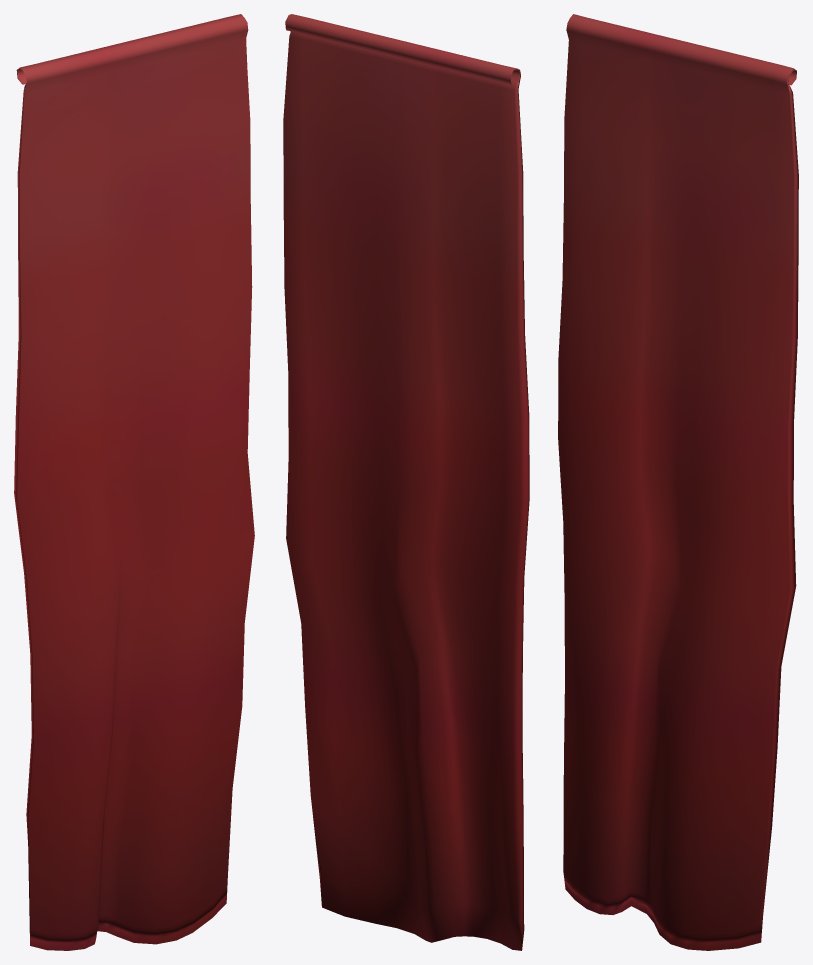
Rendered from M_HangingCloth_01_fixed.fbx.
3 views of the same model, side by side, from view 1: azimuth 30°, elevation 25°; view 2: azimuth 150°, elevation 25°; view 3: azimuth 330°, elevation 25° (orthographic). The views are drawn at different scales.
Visible parts, largest first — view 1: M_HangingCloth_01_fixed; view 2: M_HangingCloth_01_fixed; view 3: M_HangingCloth_01_fixed.
Part boxes in pixels (x1,y1,x2,y2): M_HangingCloth_01_fixed: (14, 14, 254, 950); M_HangingCloth_01_fixed: (283, 14, 529, 950); M_HangingCloth_01_fixed: (558, 14, 798, 950).
Bounding box in the file's own units: 87.75 × 317 × 16.78.
Materials: 1 (1 with a texture image).
